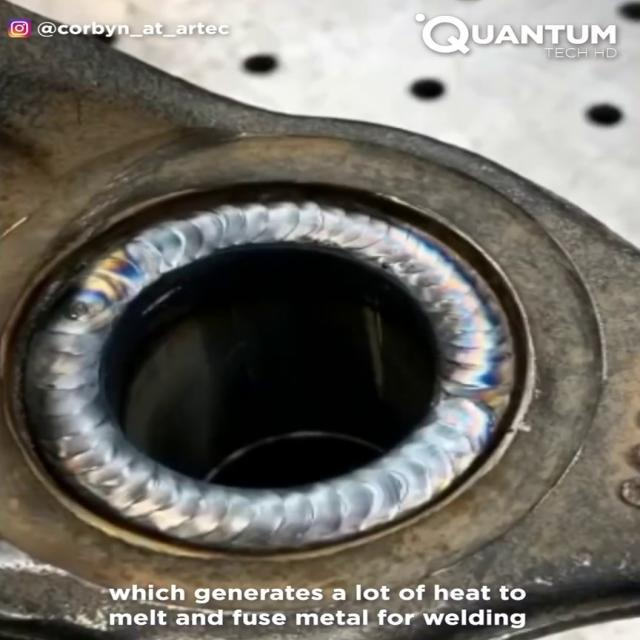Good Weld: (78, 464, 430, 546), (420, 256, 526, 462), (132, 198, 444, 252), (28, 268, 111, 454)
